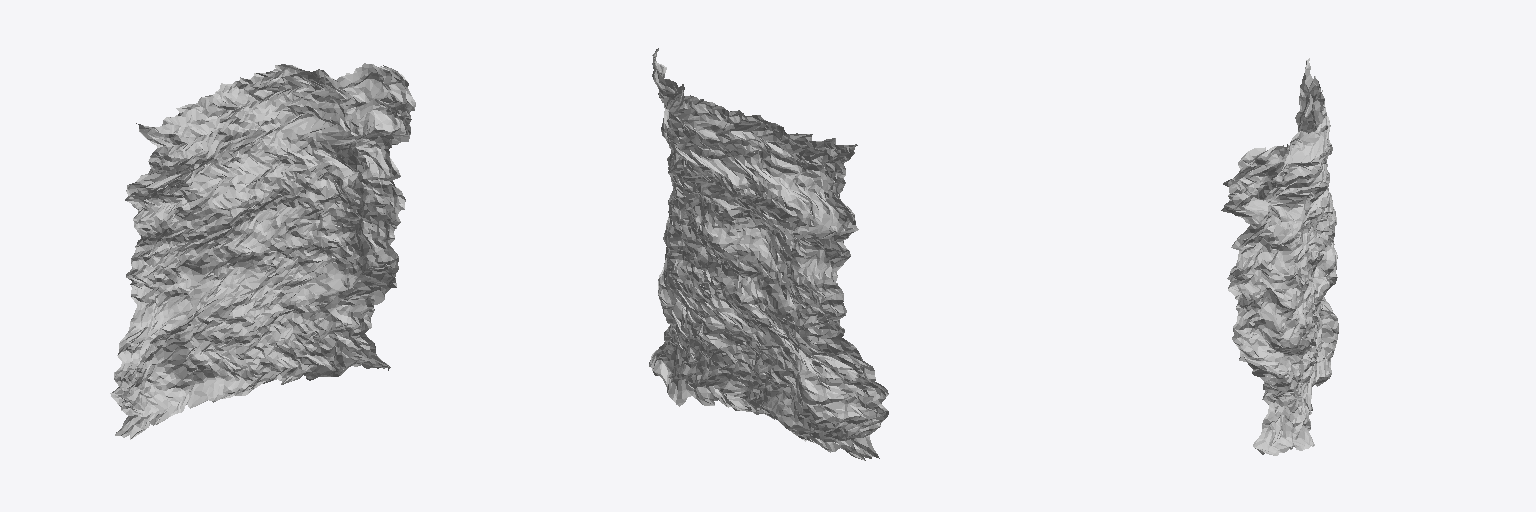
File: lardafab.obj
3 renders of one model, left to right at view 1: azimuth 30°, elevation 25°; view 2: azimuth 150°, elevation 25°; view 3: azimuth 270°, elevation 25°, orthographic.
Parts seen in each view (by area): view 1: Plane003; view 2: Plane003; view 3: Plane003.
Boxes of the visible parts, x1,y1,x2,y2 form: Plane003: [110, 63, 415, 439]; Plane003: [649, 48, 888, 460]; Plane003: [1221, 58, 1338, 455].
Bounding box in the file's own units: 265 × 317 × 101.